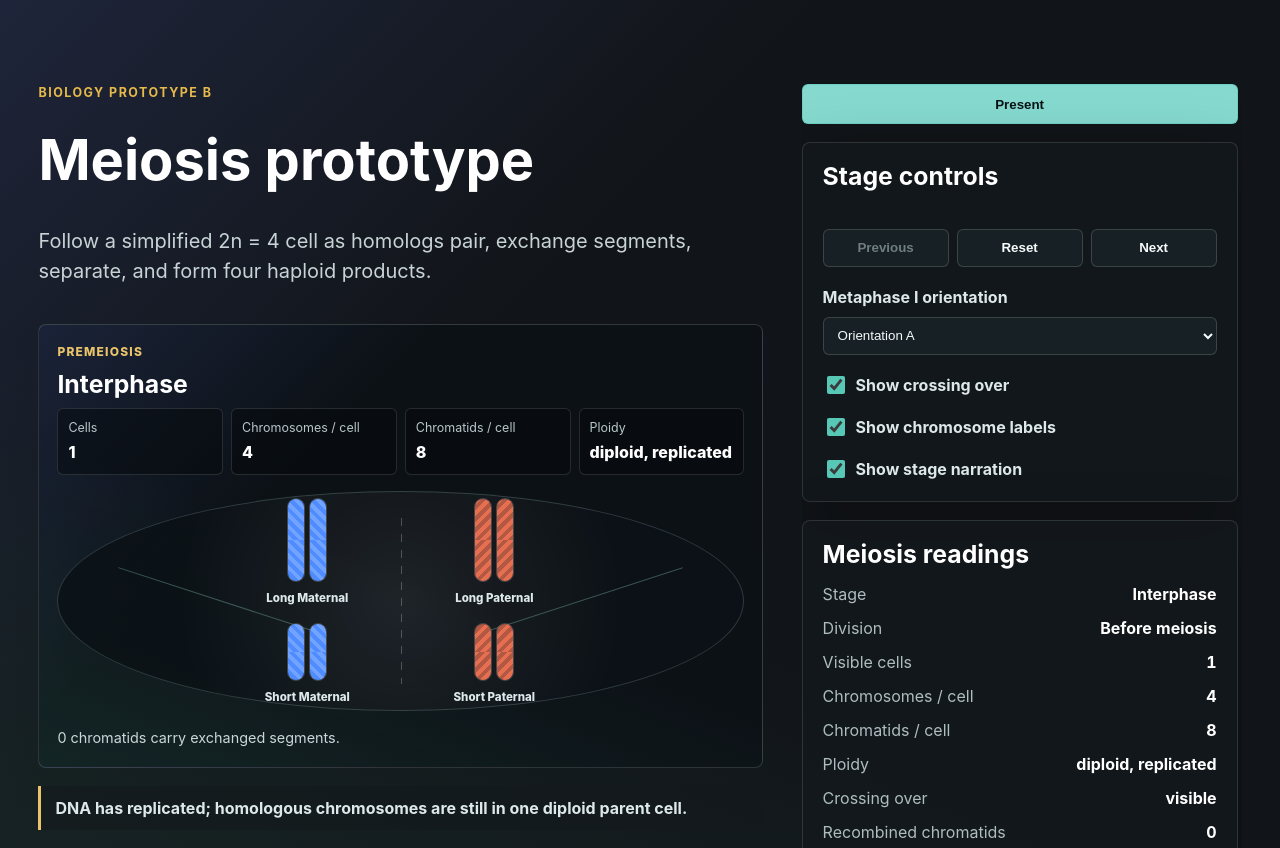
Scenario: MeiosisPrototype › toggles stage narration
Expected: the text "DNA has replicated; homologous chromosomes" is shown, [55, 798, 687, 818]
Click the checkbox labelled "Show stage narration".
click(836, 469)  # box [827, 460, 845, 478]
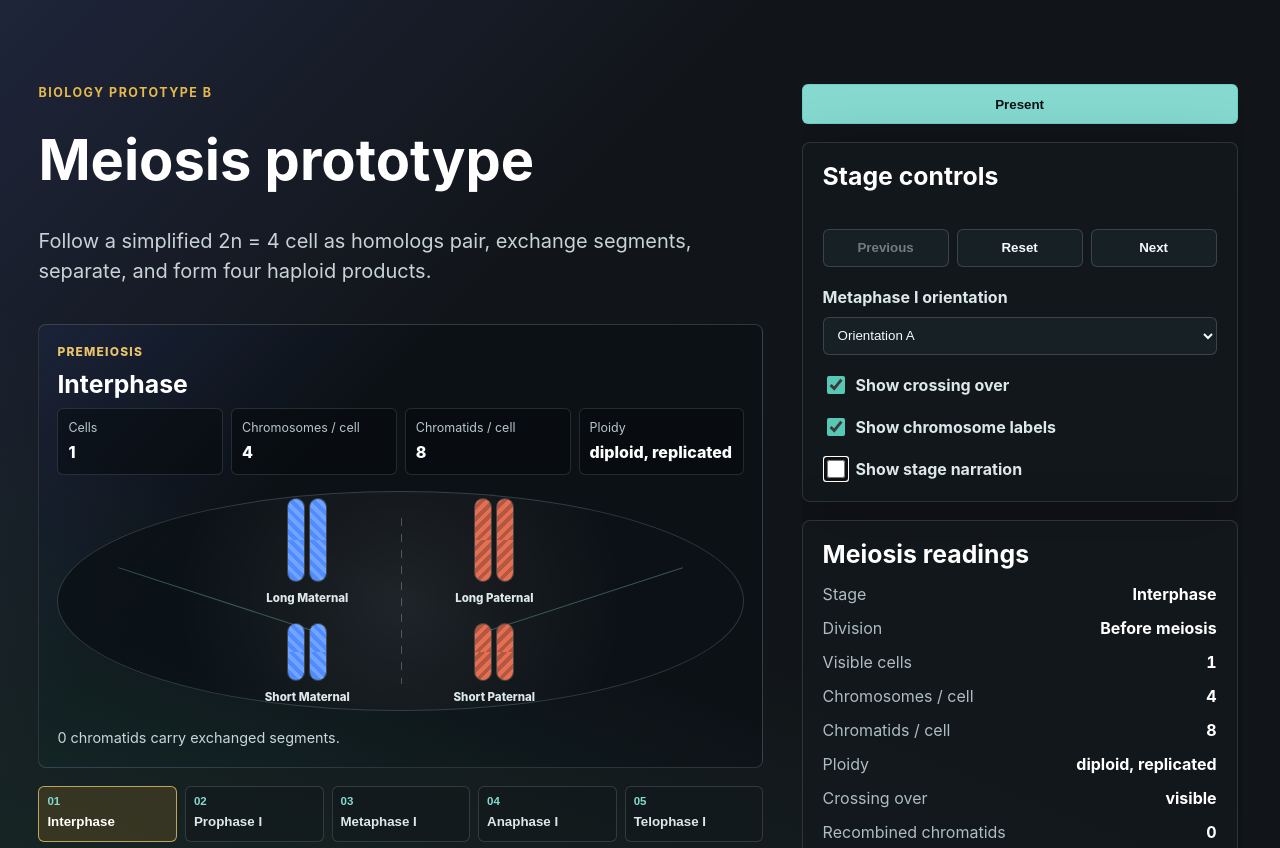
Now the text "DNA has replicated; homologous chromosomes" is gone
